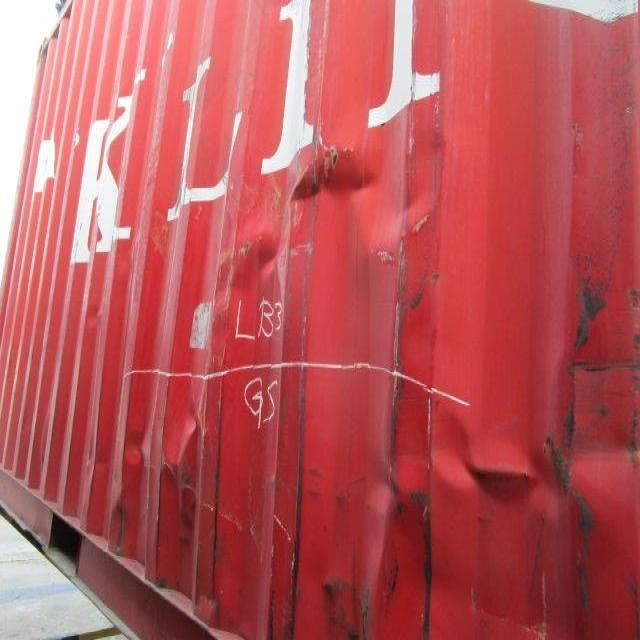Dent: (81, 336, 288, 639), (361, 357, 635, 567), (211, 119, 493, 293)
